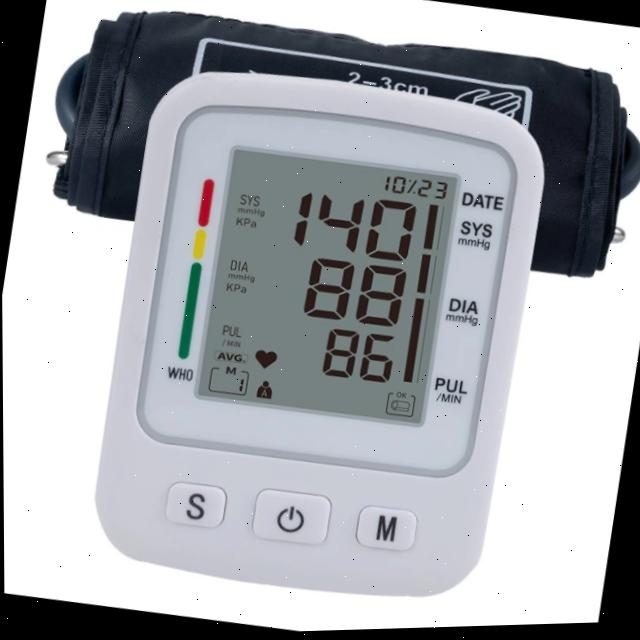dia: (295, 257, 412, 334)
pul: (313, 325, 399, 392)
ssd: (197, 148, 459, 429)
sys: (283, 187, 425, 268)
